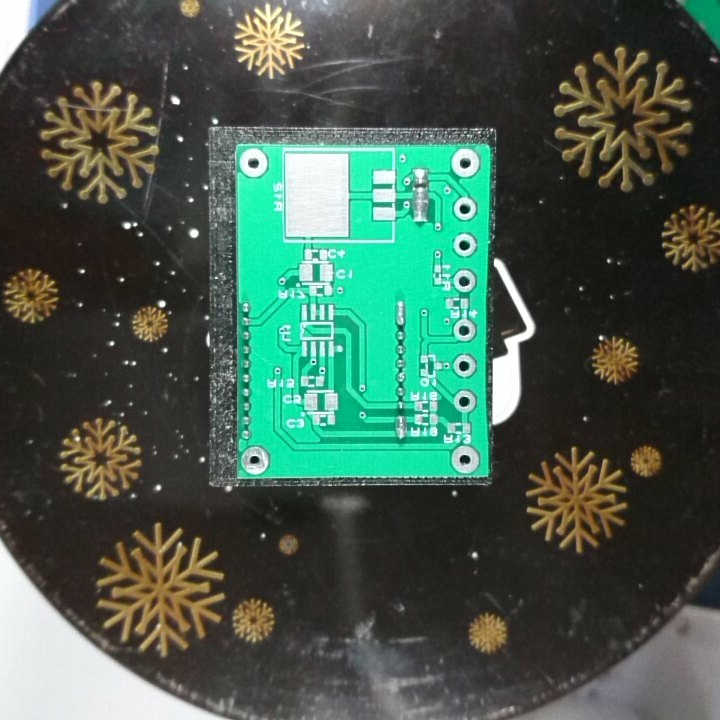F: (449, 147, 482, 180), (240, 444, 272, 477), (450, 443, 481, 477), (239, 147, 270, 179), (451, 230, 478, 260), (452, 352, 479, 380), (452, 196, 479, 223), (452, 267, 477, 295), (453, 318, 479, 343), (453, 388, 478, 414)
P: (411, 184, 429, 225), (394, 299, 408, 329), (394, 414, 407, 443)
